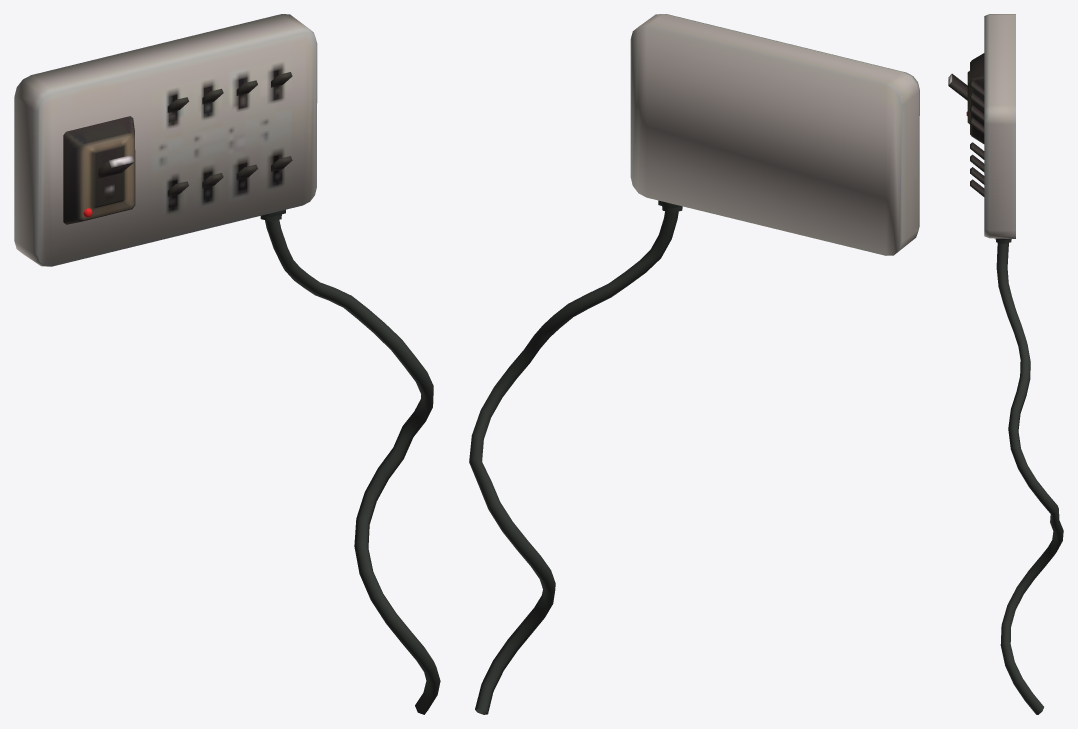
Rendered from Switches.glb.
3 renders of one model, left to right at view 1: azimuth 30°, elevation 25°; view 2: azimuth 150°, elevation 25°; view 3: azimuth 270°, elevation 25°, orthographic. The views are drawn at different scales.
Visible parts, largest first — view 1: Switches; view 2: Switches; view 3: Switches.
Part boxes in pixels (x1,y1,x2,y2): Switches: [14, 14, 440, 714]; Switches: [469, 14, 919, 714]; Switches: [948, 14, 1063, 714].
Size of the model in its own units: 0.9402 by 1.56 by 0.2955.
Materials: 1 (1 with a texture image).
